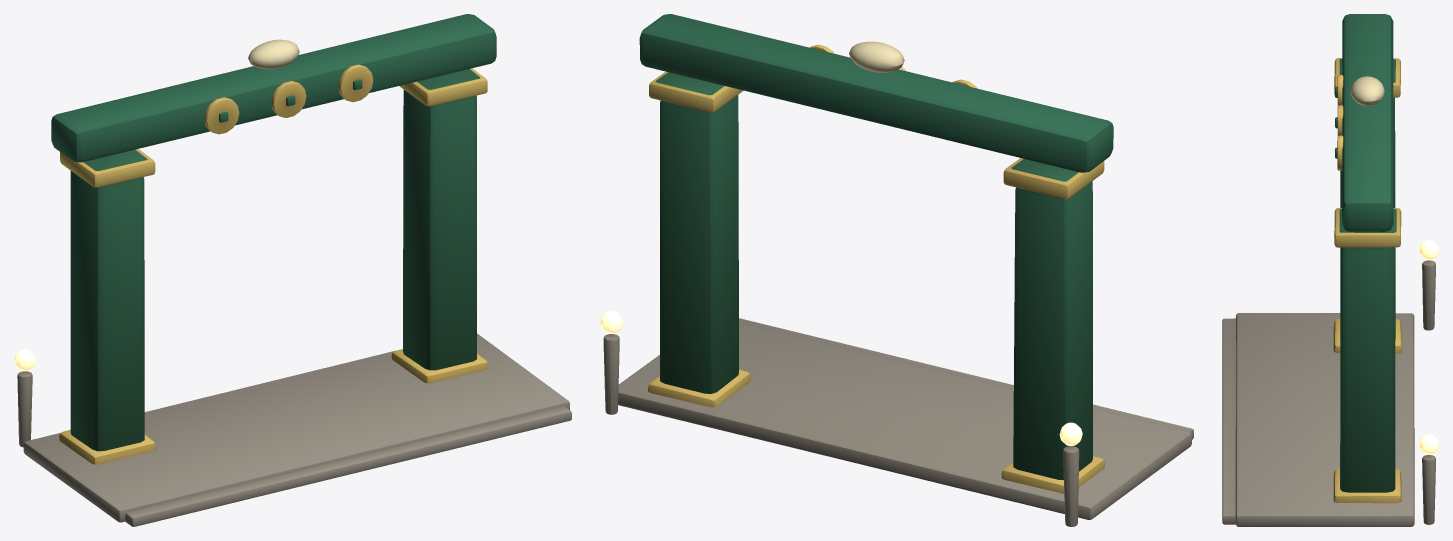
3 renders of one model, left to right at view 1: azimuth 30°, elevation 25°; view 2: azimuth 150°, elevation 25°; view 3: azimuth 270°, elevation 25°, orthographic. The views are drawn at different scales.
Parts seen in each view (by area): view 1: gate_68ffda7a; view 2: gate_68ffda7a; view 3: gate_68ffda7a.
Part boxes in pixels (box(x1,y1,x2,y2)): gate_68ffda7a: box(14, 14, 571, 526); gate_68ffda7a: box(600, 14, 1193, 526); gate_68ffda7a: box(1222, 14, 1438, 526).
Size of the model in its own units: 5.67 by 4.49 by 2.54.
